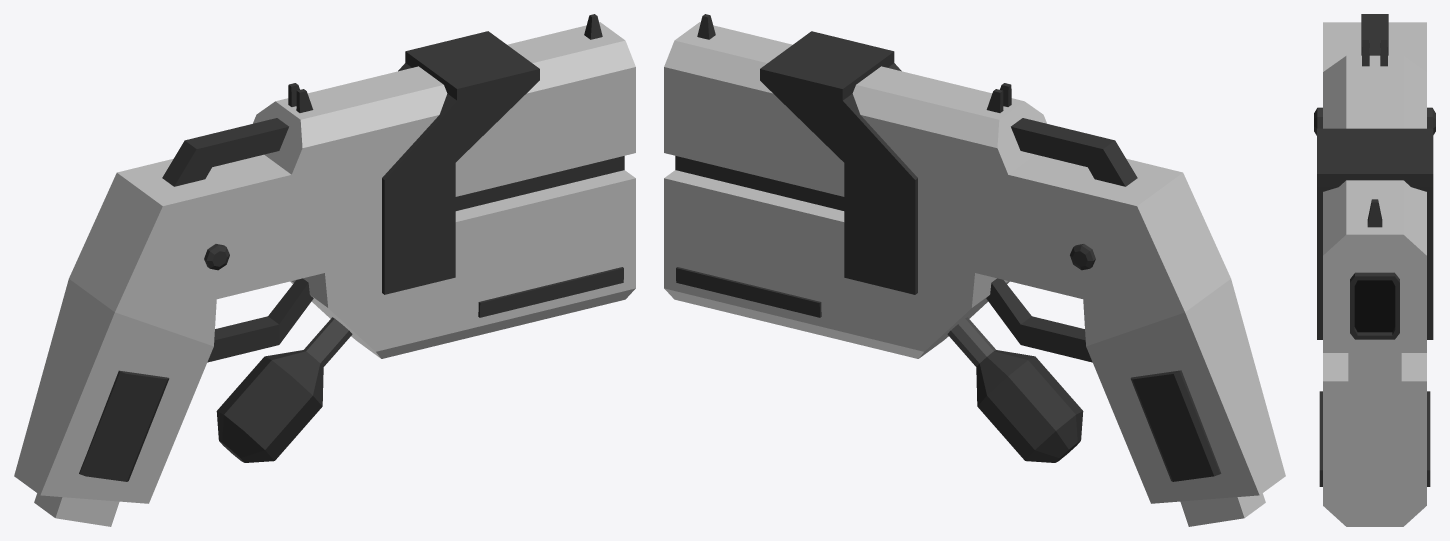
File: Handgun_C_V4.FBX
3 renders of one model, left to right at view 1: azimuth 30°, elevation 25°; view 2: azimuth 150°, elevation 25°; view 3: azimuth 270°, elevation 25°, orthographic. The views are drawn at different scales.
Visible parts, largest first — view 1: Handgun_C_V4, Magazine; view 2: Handgun_C_V4, Magazine; view 3: Handgun_C_V4.
Part boxes in pixels (x1,y1,x2,y2): Handgun_C_V4: (14,14,635,503); Magazine: (34,493,119,526); Handgun_C_V4: (664,14,1285,503); Magazine: (1180,493,1265,526); Handgun_C_V4: (1314,14,1435,526).
Bounding box in the file's own units: 141 × 87.1 × 22.22.
